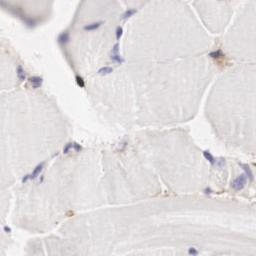nucleus: (228, 172, 246, 191), (237, 160, 252, 178), (83, 22, 108, 30), (56, 31, 70, 45), (16, 65, 27, 81), (30, 76, 45, 87), (32, 162, 44, 175), (214, 157, 226, 169), (99, 66, 113, 75), (63, 140, 73, 152), (203, 150, 213, 162), (120, 10, 137, 17), (116, 24, 122, 41), (72, 139, 81, 150), (111, 56, 125, 63), (203, 186, 213, 195), (110, 43, 120, 51), (189, 246, 198, 254), (4, 225, 11, 233), (210, 52, 222, 56), (23, 173, 29, 181), (40, 175, 43, 182)
positive_cell: (210, 43, 231, 69)
